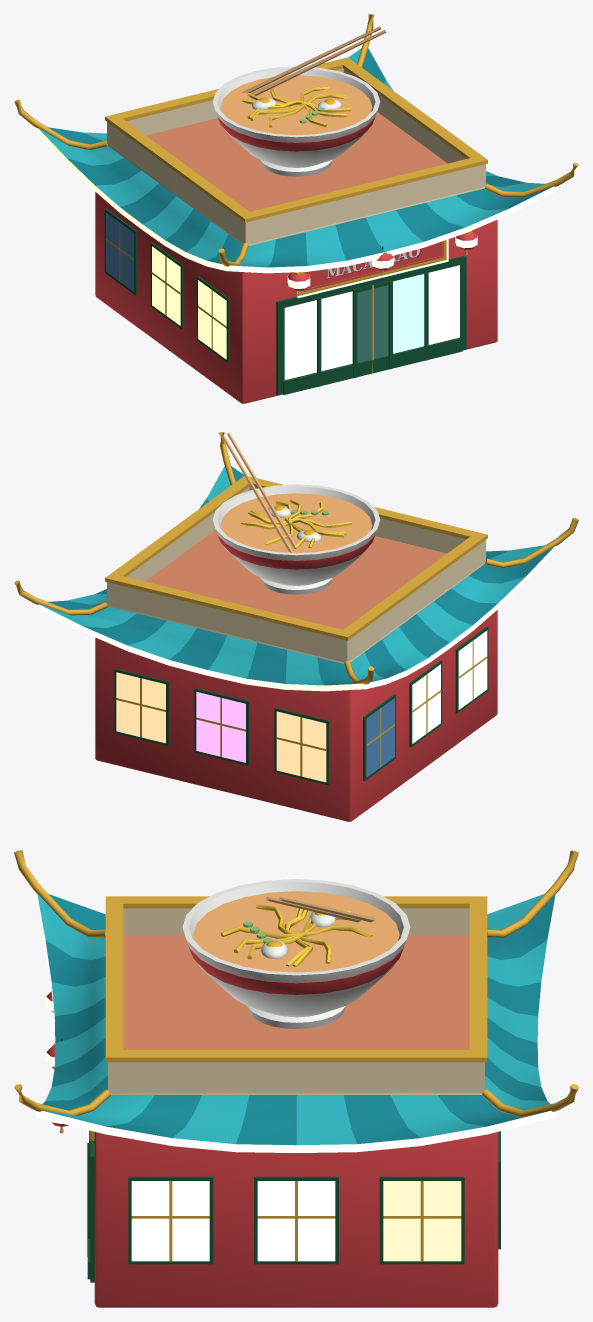
Rendered from restaurante_macarrao.glb.
The picture shows the model from 3 angles, top to bottom: view 1: azimuth 30°, elevation 25°; view 2: azimuth 150°, elevation 25°; view 3: azimuth 270°, elevation 25°; orthographic projection. The views are drawn at different scales.
Visible parts, largest first — view 1: restaurante_macarrao; view 2: restaurante_macarrao; view 3: restaurante_macarrao.
Part boxes in pixels (x1,y1,x2,y2): restaurante_macarrao: [14, 14, 578, 403]; restaurante_macarrao: [14, 432, 578, 821]; restaurante_macarrao: [14, 850, 578, 1307].
Size of the model in its own units: 12.86 by 9.53 by 12.88.
10 materials, 2 textured.
